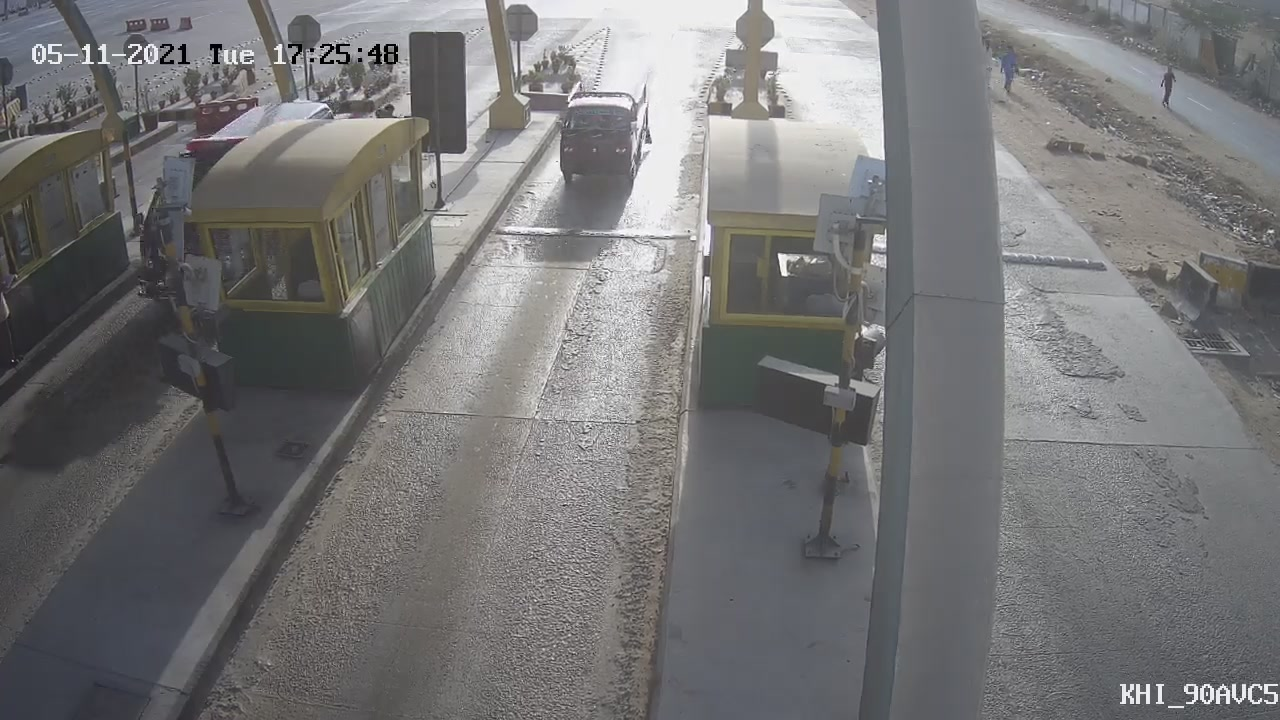F1: (535, 70, 666, 203)
